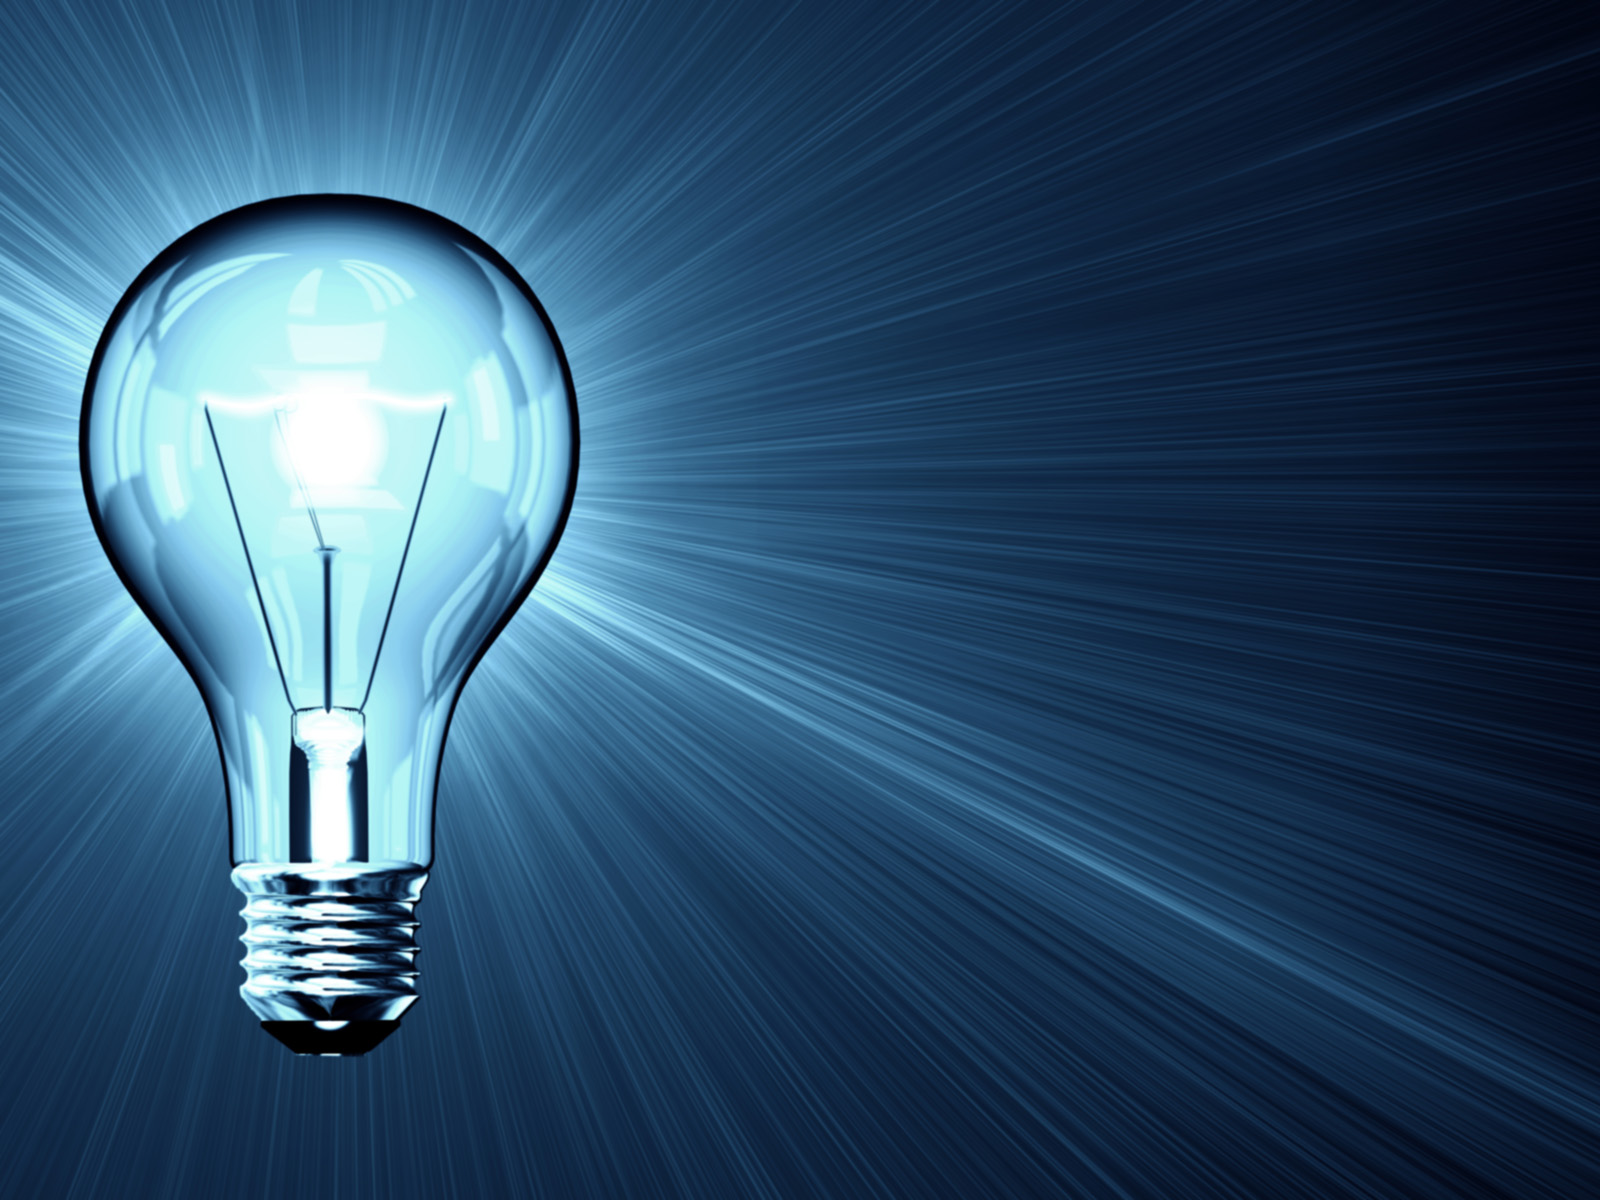Nonrec_Glass: (49, 185, 629, 1100)
